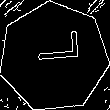L_W: (28, 39, 80, 75)
